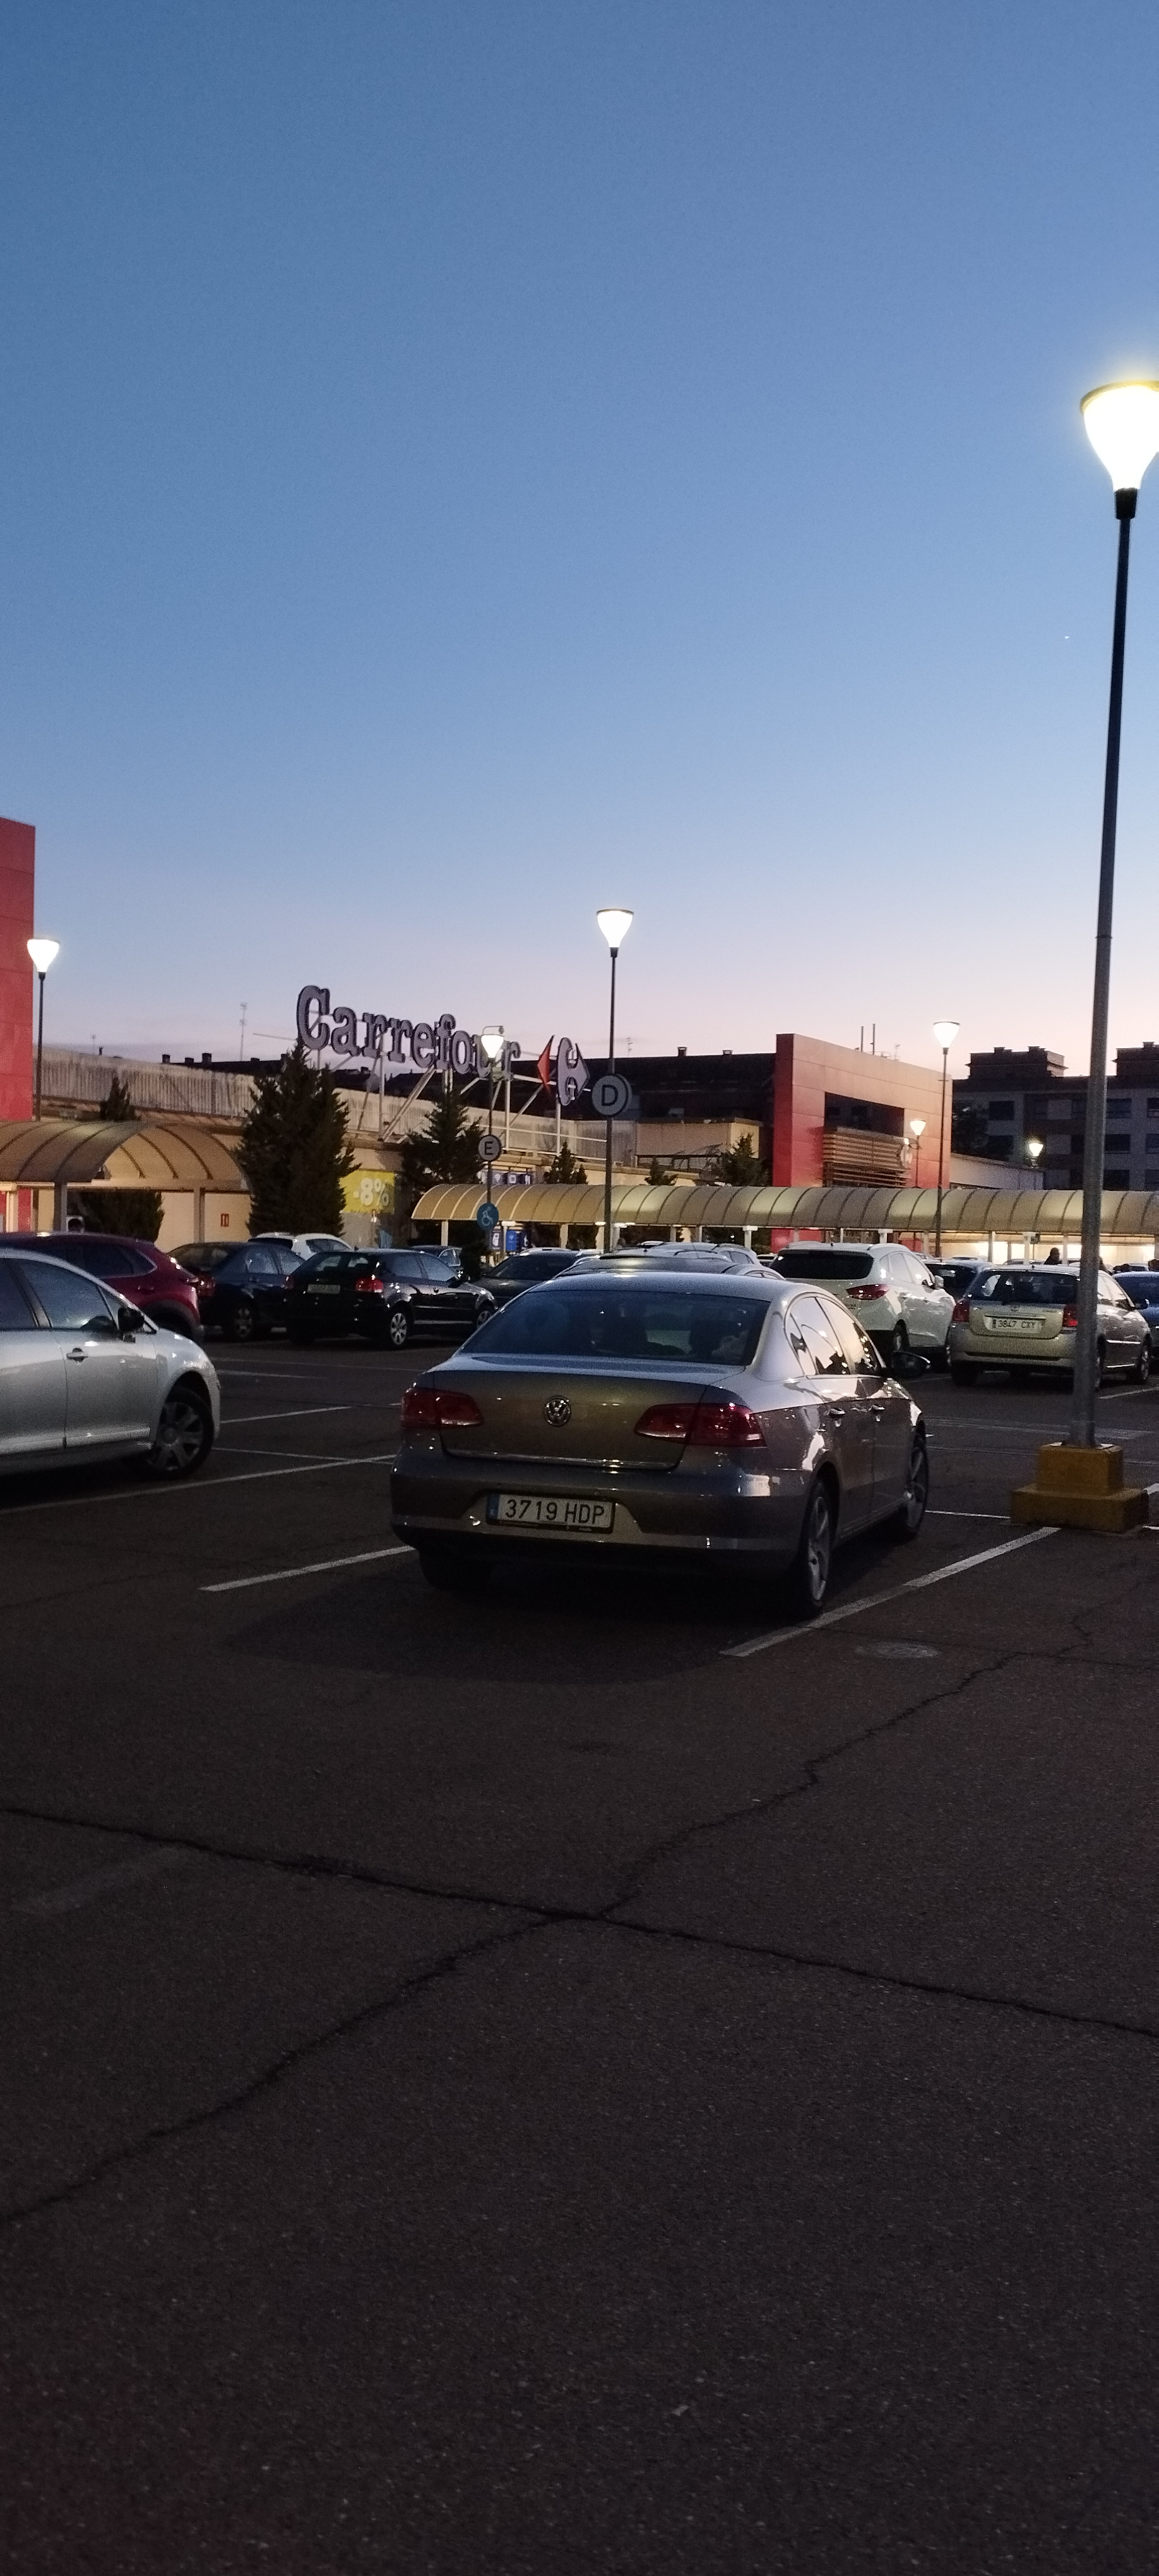Car: (394, 1268, 925, 1605), (953, 1260, 1154, 1383)
Plate: (489, 1489, 615, 1524), (992, 1316, 1038, 1330)
